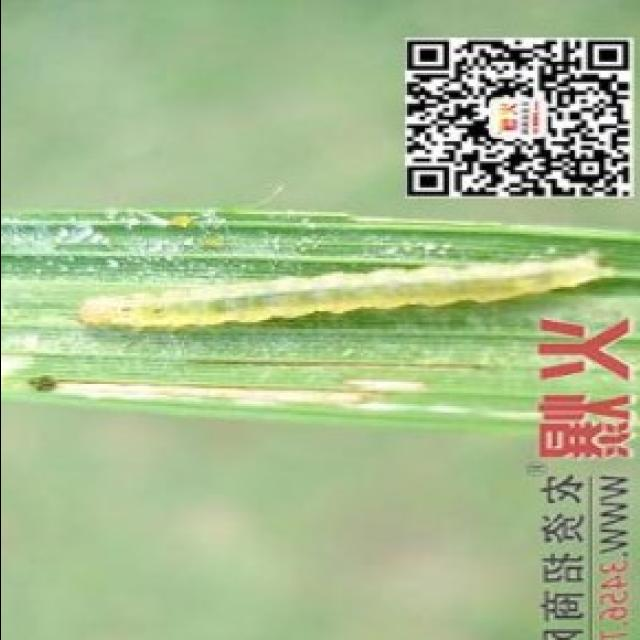rice leaf roller: (75, 252, 611, 327)
